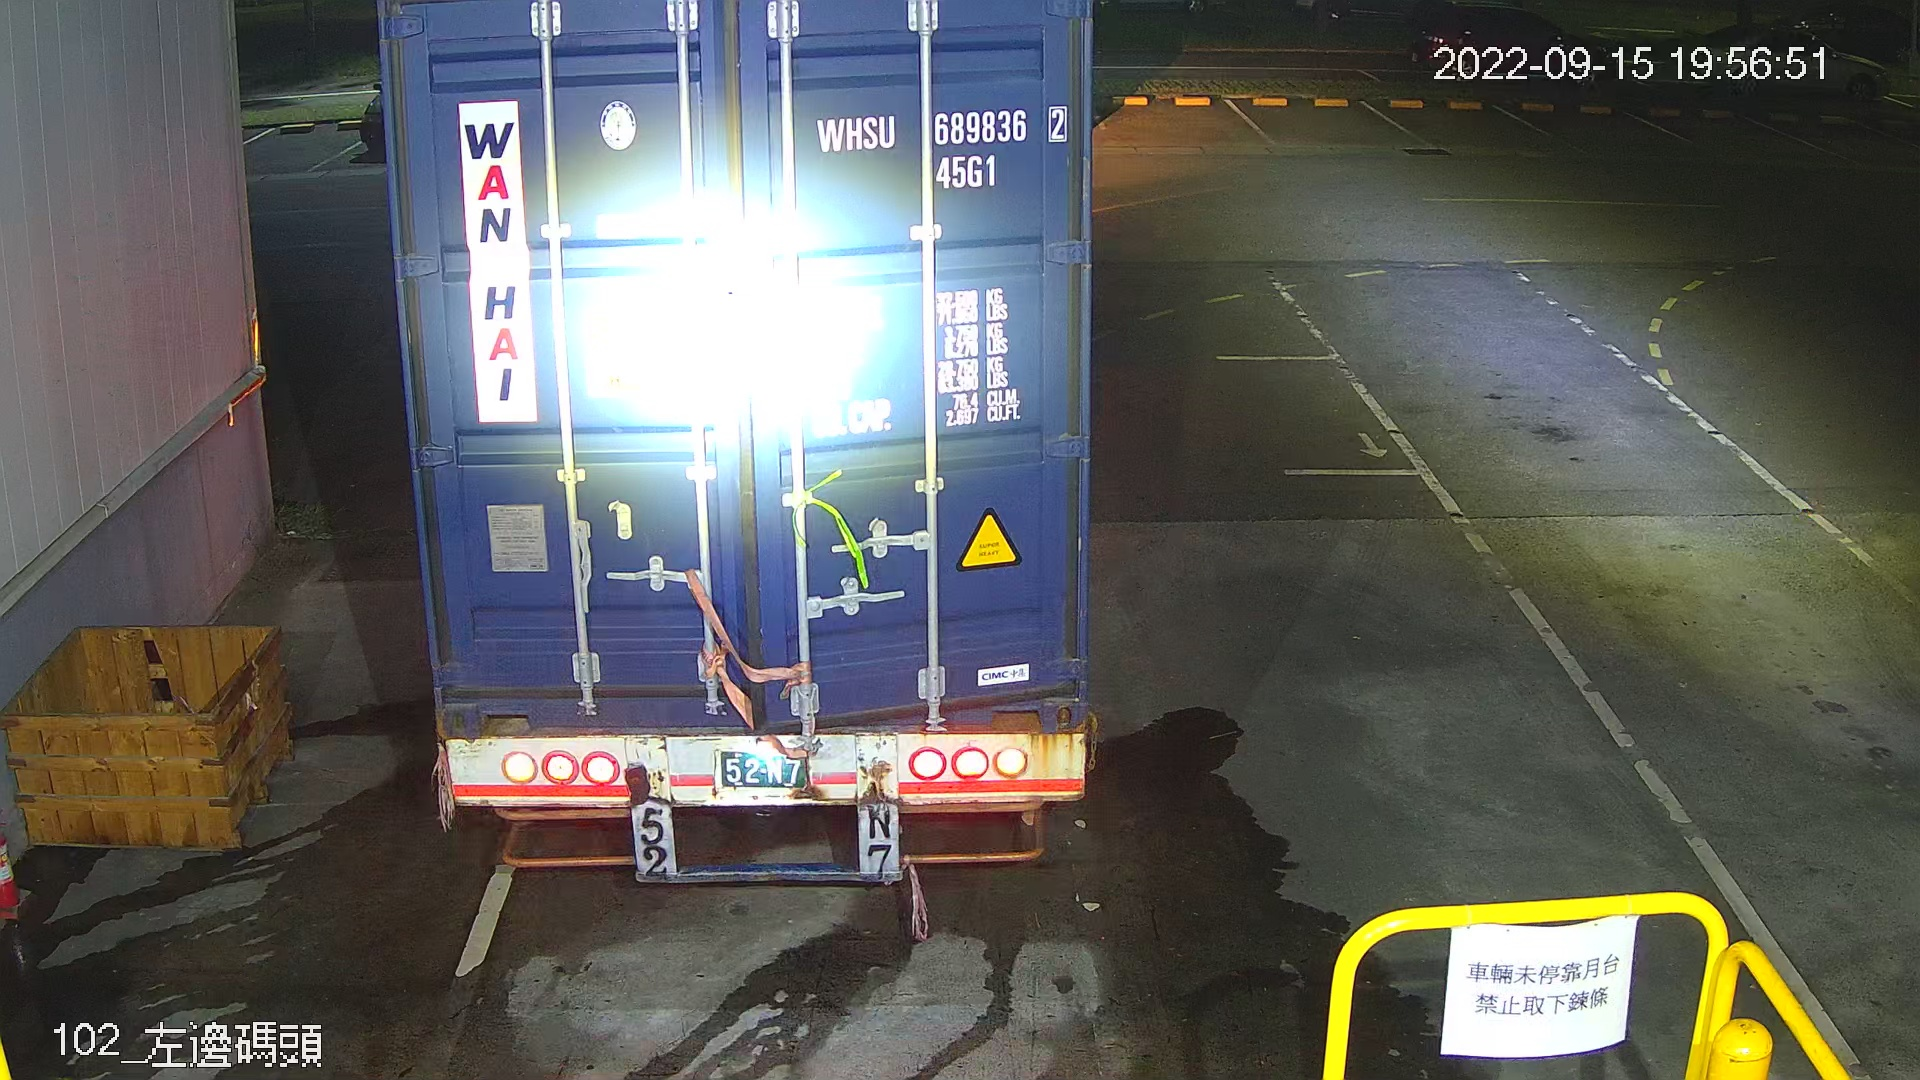container: (804, 98, 1079, 199)
